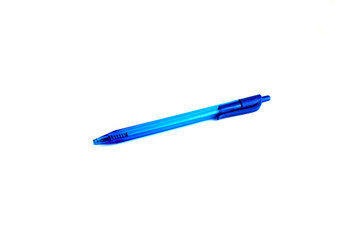pen: (89, 88, 277, 155)
